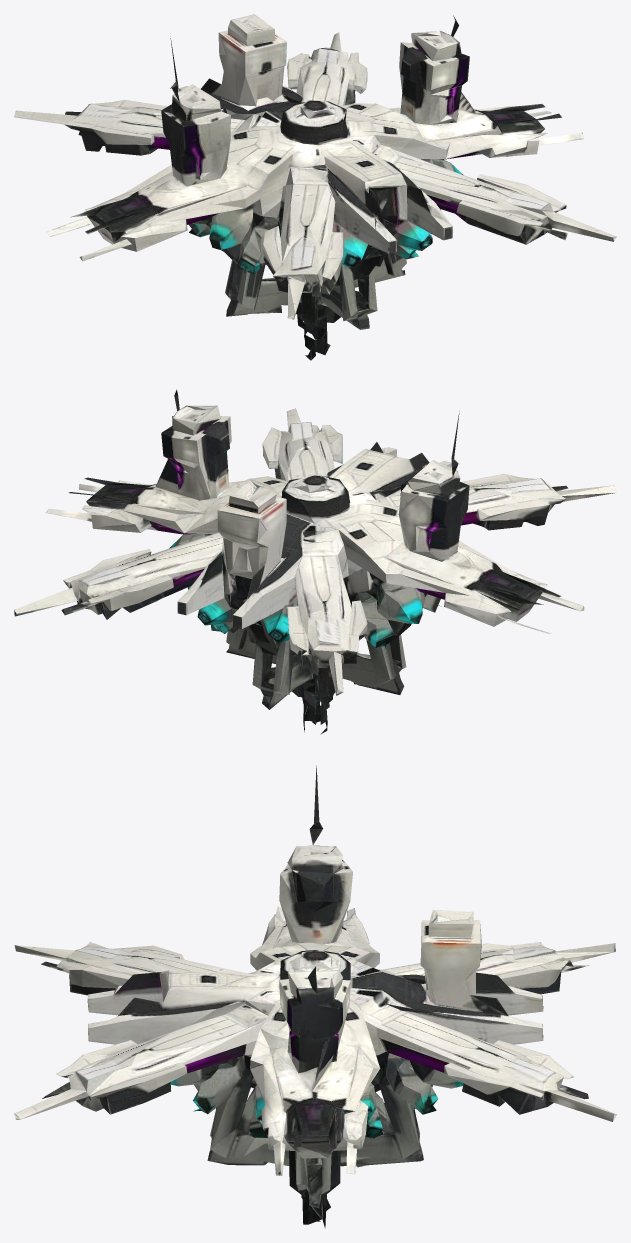
File: nation-a-fortress.glb
The picture shows the model from 3 angles, top to bottom: view 1: azimuth 30°, elevation 25°; view 2: azimuth 150°, elevation 25°; view 3: azimuth 270°, elevation 25°; orthographic projection. The views are drawn at different scales.
Bounding box in the file's own units: 1.9 × 1.29 × 1.82.
1 material, 1 textured.
